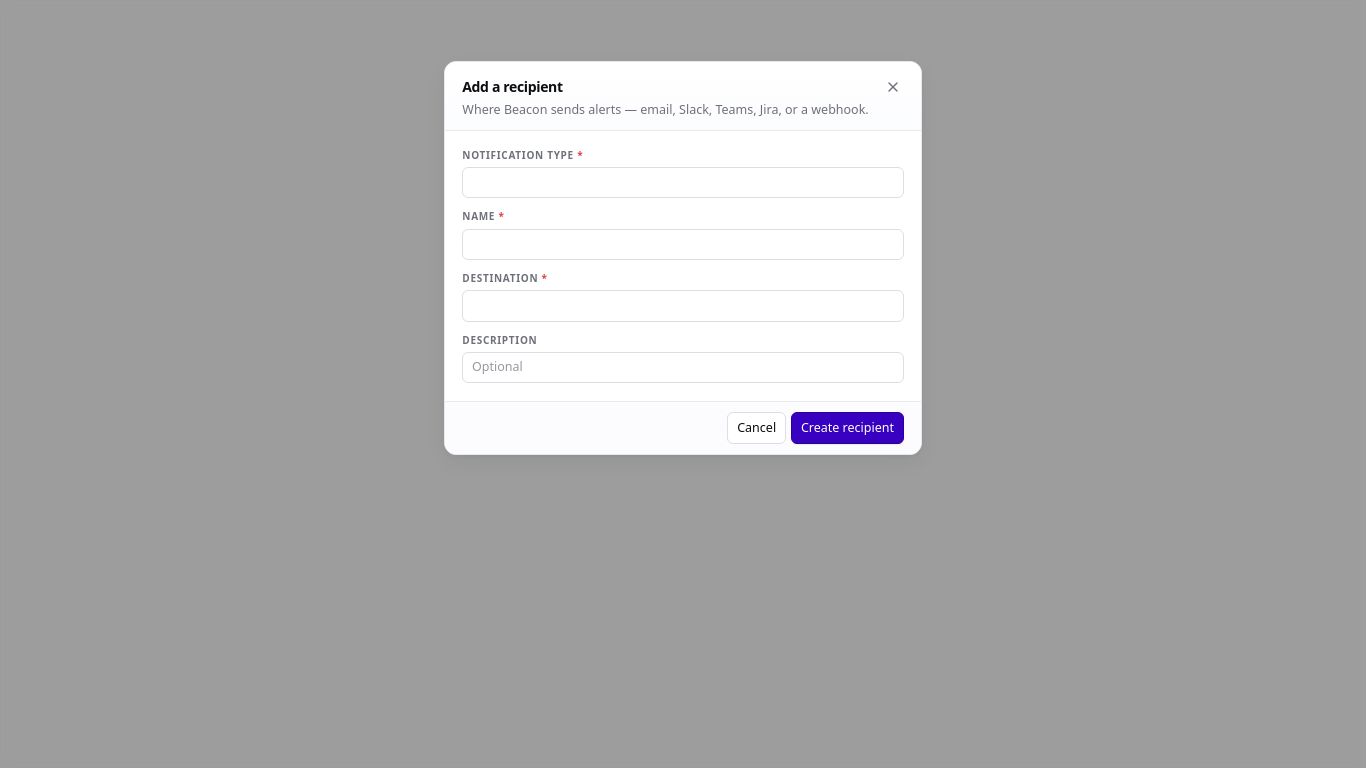
Test case: RecipientDialog › shows a validation error when required fields are missing
The width and height of the screenshot is (1366, 768).
Click the button "Create recipient". click: (847, 428)
box: [791,412,904,444]
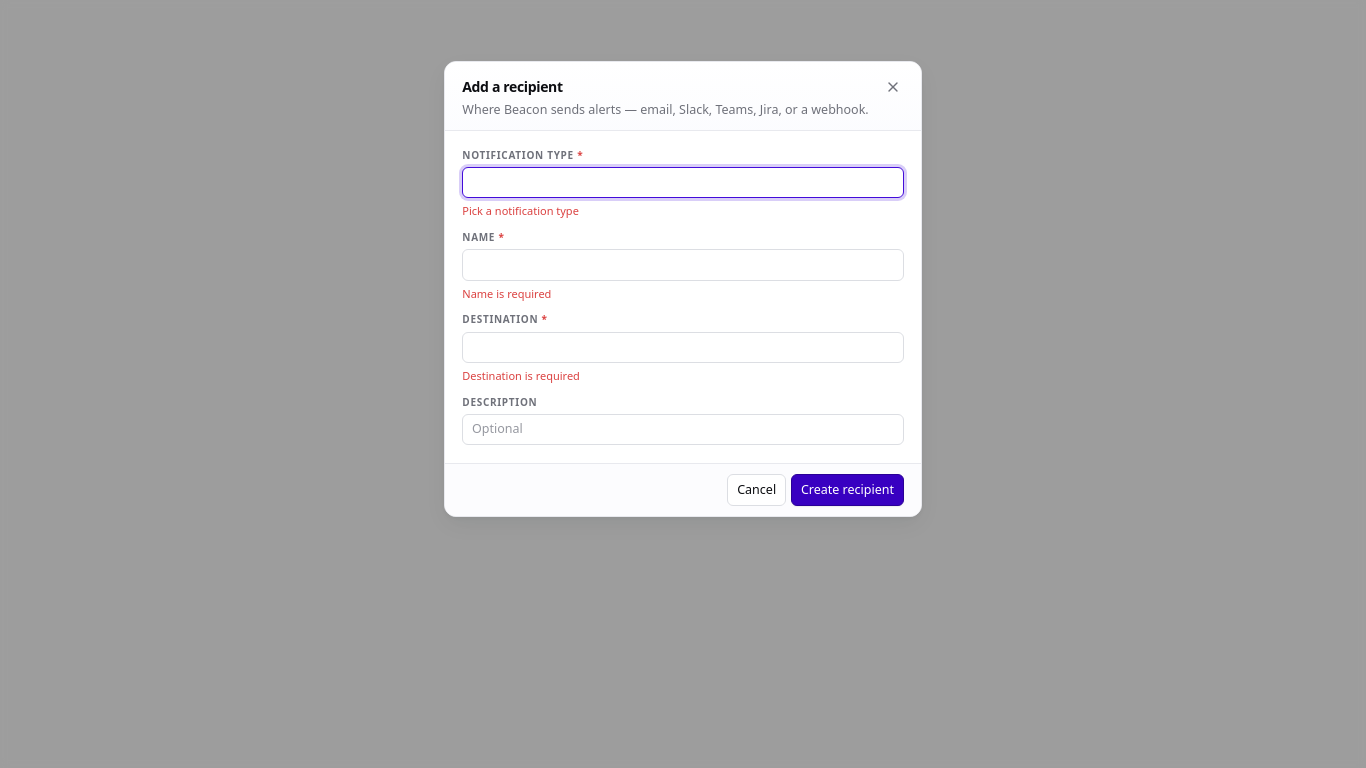
Expected: the text "Name is required" is shown, [462,286,551,301]
